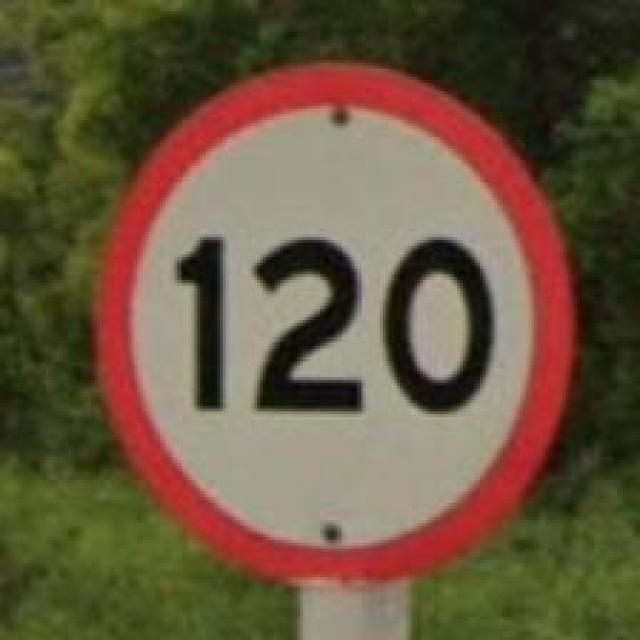speed limit 120: (92, 61, 574, 583)
